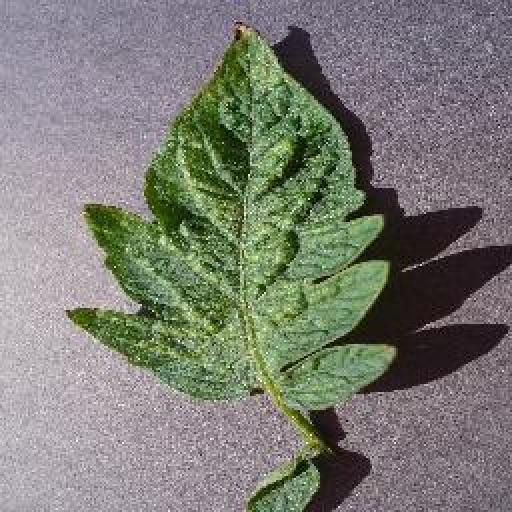disease_tomato: (68, 20, 399, 411)
